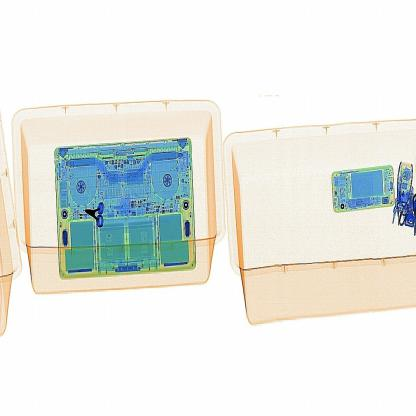gun: (80, 194, 112, 237)
